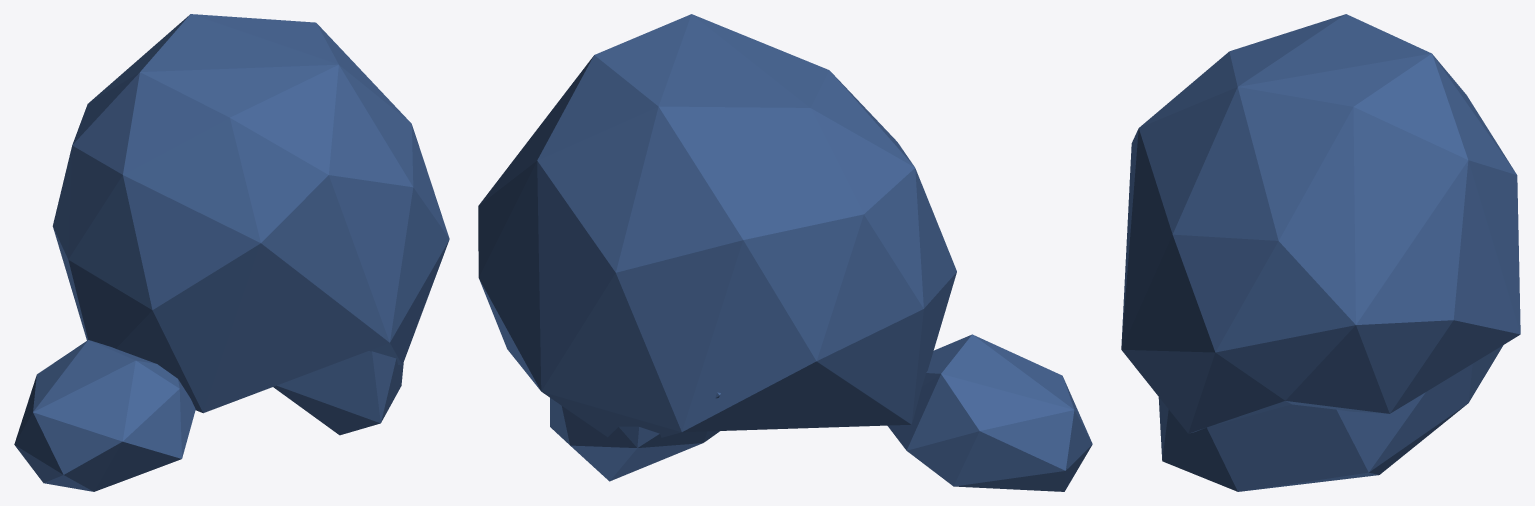
The model's file is tree-winter-leaves-024.glb.
The picture shows the model from 3 angles, left to right: view 1: azimuth 30°, elevation 25°; view 2: azimuth 150°, elevation 25°; view 3: azimuth 270°, elevation 25°; orthographic projection. The views are drawn at different scales.
Parts seen in each view (by area): view 1: Icosphere.011_157; view 2: Icosphere.011_157; view 3: Icosphere.011_157.
Boxes of the visible parts, x1=… form: Icosphere.011_157: x1=14, y1=14, x2=449, y2=491; Icosphere.011_157: x1=478, y1=14, x2=1092, y2=491; Icosphere.011_157: x1=1121, y1=14, x2=1520, y2=491.
Size of the model in its own units: 1.35 by 1.05 by 0.9464.
